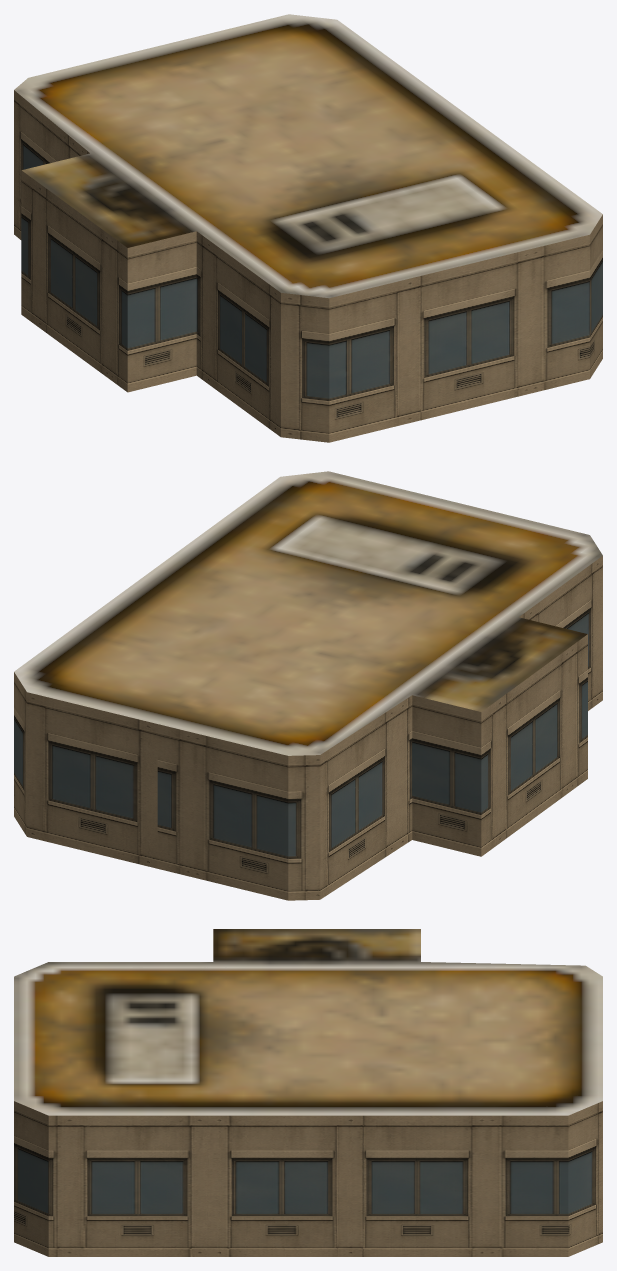
The model's file is building_single_light_1.glb.
3 renders of one model, top to bottom at view 1: azimuth 30°, elevation 25°; view 2: azimuth 150°, elevation 25°; view 3: azimuth 270°, elevation 25°, orthographic. The views are drawn at different scales.
Parts seen in each view (by area): view 1: buildings/saxarba/building_single/building_single_light_1; view 2: buildings/saxarba/building_single/building_single_light_1; view 3: buildings/saxarba/building_single/building_single_light_1.
Part boxes in pixels (x1,y1,x2,y2): buildings/saxarba/building_single/building_single_light_1: (14,14,602,442); buildings/saxarba/building_single/building_single_light_1: (14,471,602,900); buildings/saxarba/building_single/building_single_light_1: (14,929,602,1256).
Size of the model in its own units: 51 by 18 by 68.
